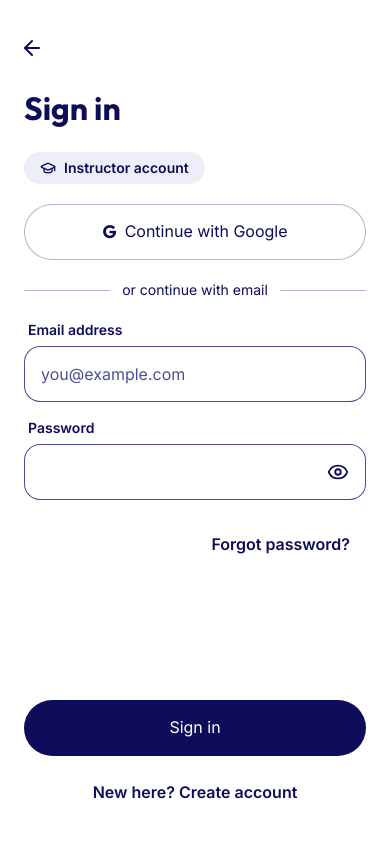
phone sign-in screen › announces a wrong password as an alert
Type "ada@example.com" into the field labelled "Email address" at (195, 374), box [24,346,366,402]
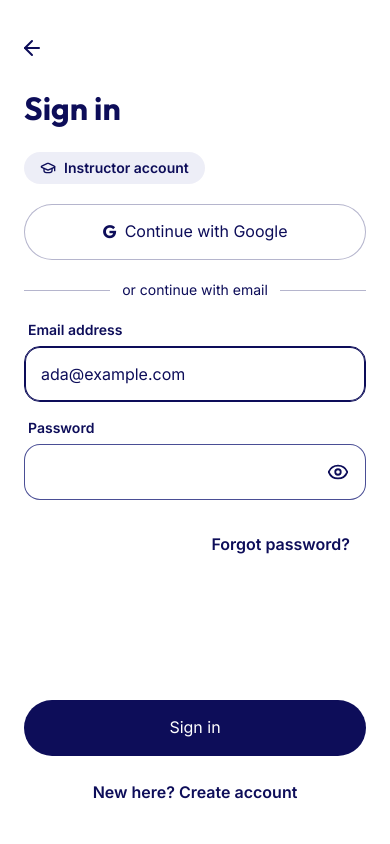
Type "password123" into the password field labelled "Password" at (195, 472), box [24,444,366,500]
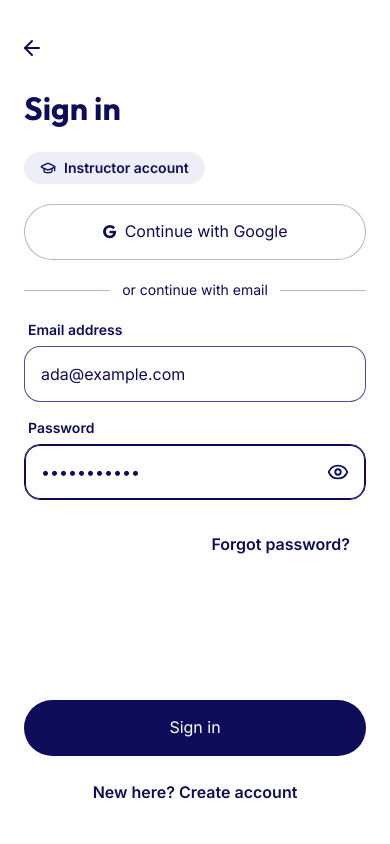
Click the button "Sign in" at (195, 728), box [24,700,366,756]
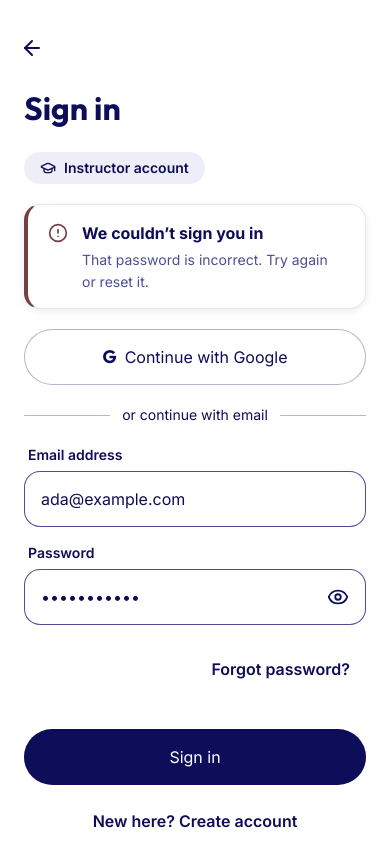
Expected: the message shows "That password is incorrect. Try again or reset it.", [82,251,328,290]
